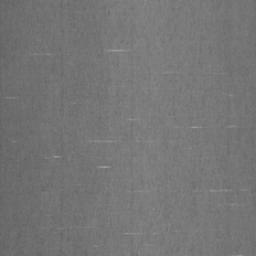Waist folding: (37, 225, 193, 256), (0, 139, 140, 170), (176, 92, 256, 130), (78, 6, 133, 55), (193, 187, 256, 195), (30, 51, 60, 57), (229, 251, 256, 256), (0, 95, 19, 100)
